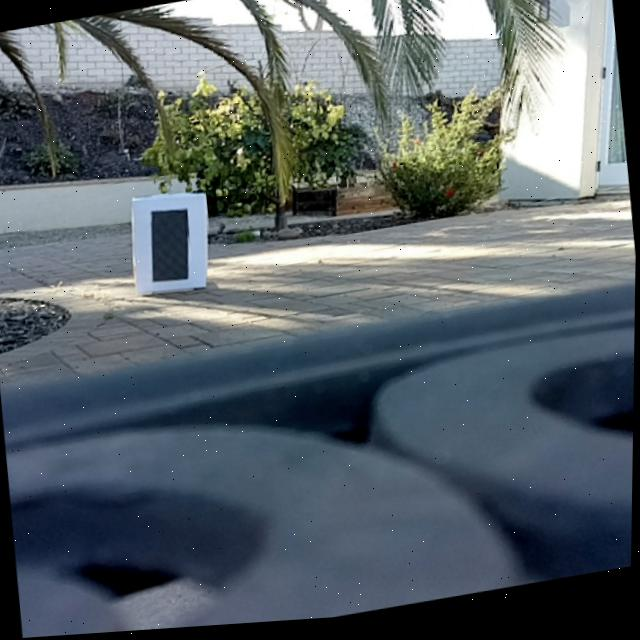led: (145, 205, 197, 289)
